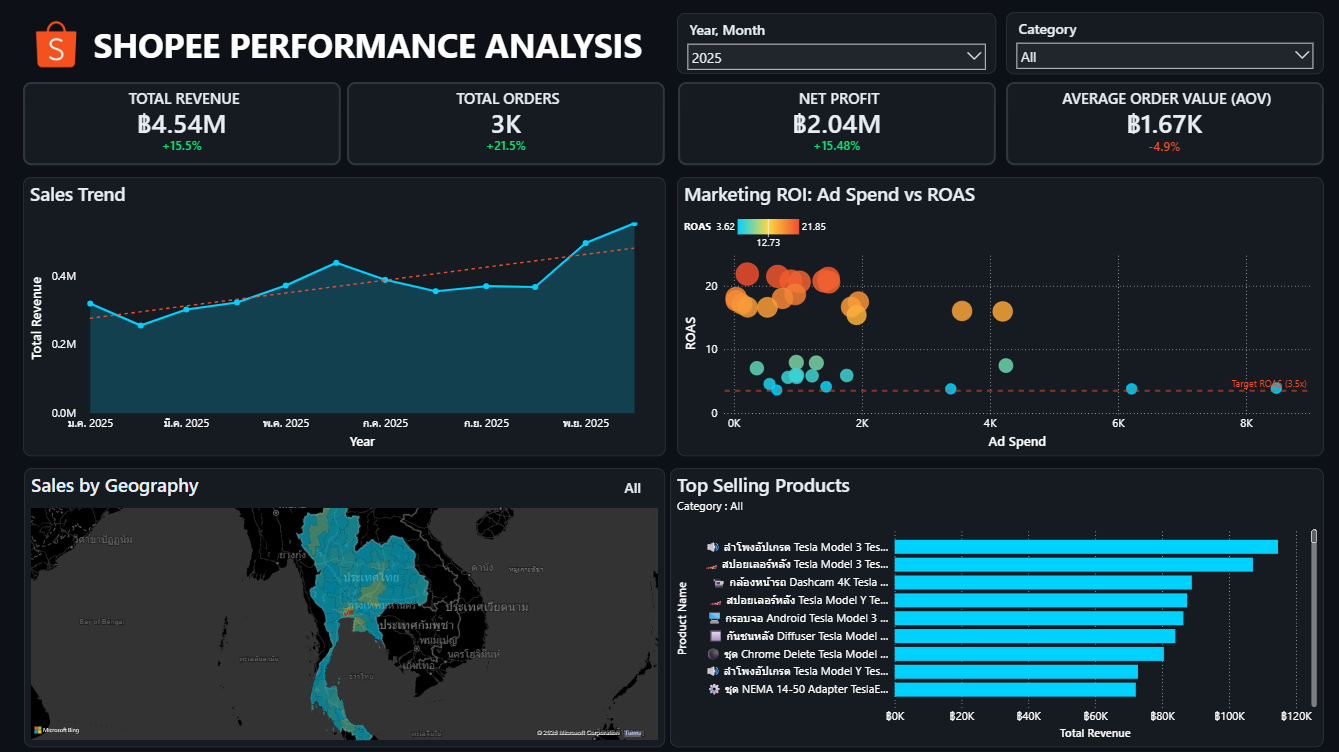

This screenshot's page, from the dashboard's own definition file:
{"tool":"powerbi","page":{"name":"Page 1","canvas":[1920,1080],"ordinal":0},"visuals":[{"type":"slicer","fields":{"Values":["Calendar.MonthStartDate.Variation.Date Hierarchy.Year","Calendar.MonthStartDate.Variation.Date Hierarchy.Month"]},"box":[970,21.4,455.7,87.1],"z":0},{"type":"slicer","fields":{"Values":["dim_product.category"]},"box":[1440,20,454.3,88.6],"z":1000},{"type":"lineChart","title":"Sales Trend","fields":{"Category":["Calendar.Date.Variation.Date Hierarchy.Year1","Calendar.Date.Variation.Date Hierarchy.Quarter","Calendar.Date.Variation.Date Hierarchy.Month","Calendar.Date.Variation.Date Hierarchy.Day"],"Y":["public orders_clean.Total Revenue"]},"box":[35,255,917.6,399.5],"z":2000},{"type":"cardVisual","title":"TOTAL REVENUE","fields":{"Data":["public orders_clean.Total Revenue"]},"box":[35,120,454.3,118.6],"z":3000},{"type":"scatterChart","title":"Marketing ROI: Ad Spend vs ROAS","fields":{"Category":["public ads_clean.campaign_name"],"Size":["public ads_clean.ROAS"],"X":["Sum(public ads_clean.ad_spend)"],"Y":["public ads_clean.ROAS"]},"box":[970.6,255,923.7,399.2],"z":4000},{"type":"filledMap","title":"Sales by Geography","fields":{"Category":["public orders_clean.Province_Map"]},"box":[36.7,670.8,916.4,399.2],"z":5000},{"type":"clusteredBarChart","title":"Top Selling Products","fields":{"Category":["public orders_clean.product_name"],"Y":["public orders_clean.Total Revenue"]},"box":[960,671.4,934.3,398.6],"z":6000},{"type":"cardVisual","title":"AVERAGE ORDER VALUE (AOV)","fields":{"Data":["public orders_clean.Average Order Value"]},"box":[1440,120,453.6,119],"z":7000},{"type":"textbox","box":[131.7,28.3,838.3,80],"z":8000},{"type":"image","box":[35,30,95,76.7],"z":9000},{"type":"cardVisual","title":"Province","fields":{"Data":["fact_order.Province Name"]},"box":[788.6,671.4,154.3,52.9],"z":10000},{"type":"cardVisual","title":"NET PROFIT","fields":{"Data":["public orders_clean.Net Profit"]},"box":[970.7,120,454.3,118.6],"z":11000},{"type":"cardVisual","title":"TOTAL ORDERS","fields":{"Data":["public orders_clean.Total Orders"]},"box":[497.9,120,454.3,118.6],"z":12000}]}

Visuals, with their boxes in screenshot pixels (x1, y1, x2, y2), scaled from the page's 1920x1080 canvas onto the 1339x752 screenshot:
slicer - Calendar.MonthStartDate.Variation.Date Hierarchy.Year x Calendar.MonthStartDate.Variation.Date Hierarchy.Month: (676,15,994,76)
slicer - dim_product.category: (1004,14,1321,76)
"Sales Trend" lineChart: (24,178,664,456)
"TOTAL REVENUE" cardVisual: (24,84,341,166)
"Marketing ROI: Ad Spend vs ROAS" scatterChart: (677,178,1321,456)
"Sales by Geography" filledMap: (26,467,665,745)
"Top Selling Products" clusteredBarChart: (670,467,1321,745)
"AVERAGE ORDER VALUE (AOV)" cardVisual: (1004,84,1321,166)
textbox: (92,20,676,75)
image: (24,21,91,74)
"Province" cardVisual: (550,467,658,504)
"NET PROFIT" cardVisual: (677,84,994,166)
"TOTAL ORDERS" cardVisual: (347,84,664,166)
